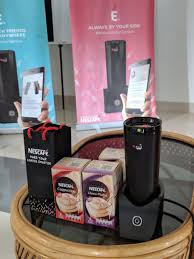nescafe-cappe: (85, 159, 123, 228), (54, 156, 87, 228)
